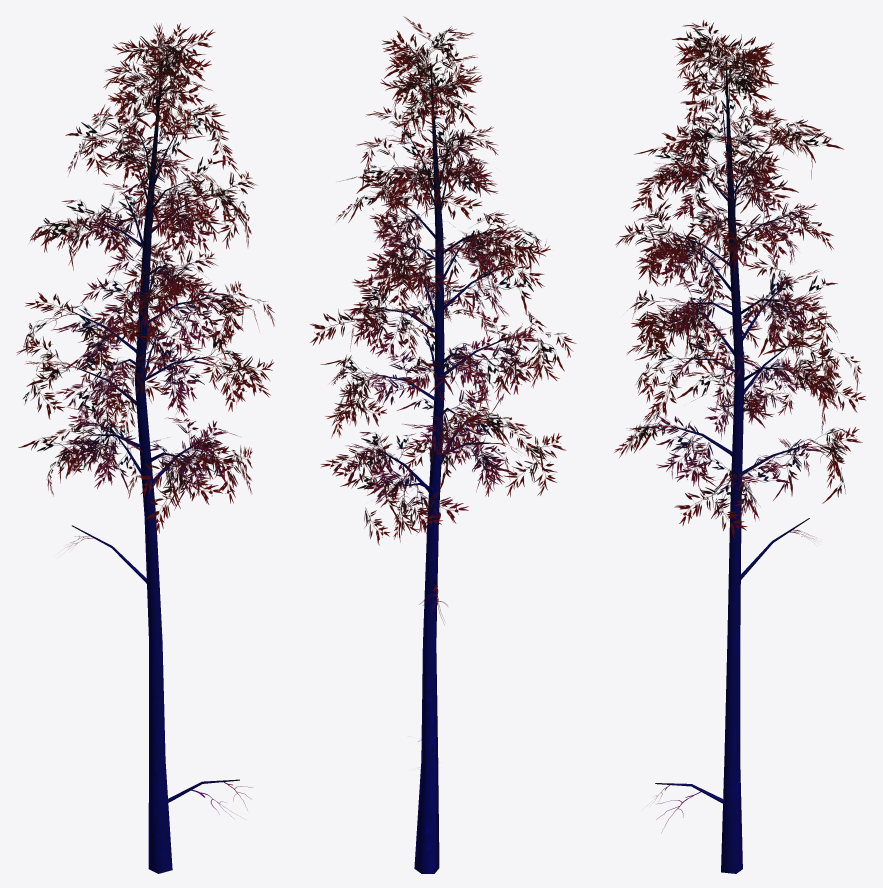
The model's file is Eucalyptus_B.glb.
3 views of the same model, side by side, from view 1: azimuth 30°, elevation 25°; view 2: azimuth 150°, elevation 25°; view 3: azimuth 270°, elevation 25° (orthographic).
Parts seen in each view (by area): view 1: EucalyptusB_LOD0; view 2: EucalyptusB_LOD0; view 3: EucalyptusB_LOD0.
Part boxes in pixels (x1=…): EucalyptusB_LOD0: x1=16, y1=23, x2=274, y2=873; EucalyptusB_LOD0: x1=310, y1=16, x2=576, y2=873; EucalyptusB_LOD0: x1=614, y1=20, x2=865, y2=873.
Size of what is drawn, in the model's own units: 5.84 by 20.09 by 5.54.
2 materials, 2 textured.
